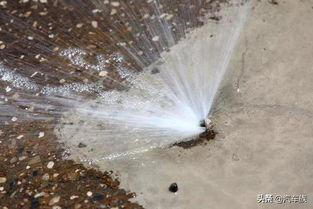pipe burst: (1, 0, 248, 150)
